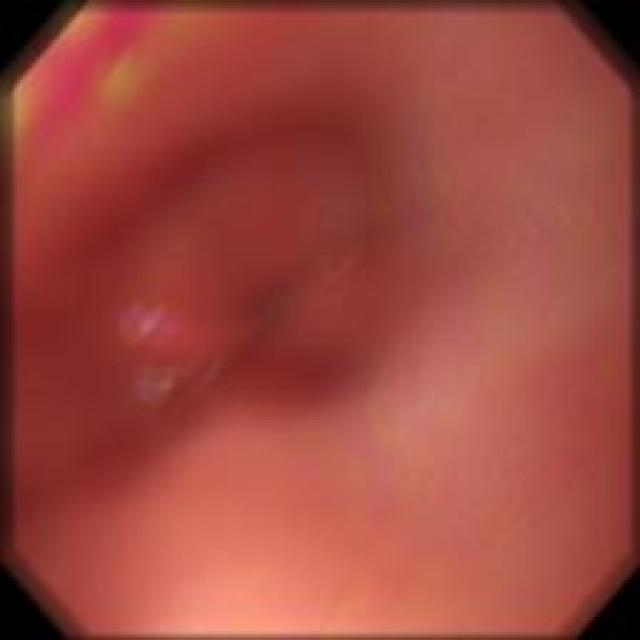blur: (1, 2, 638, 639), (64, 98, 484, 476)
color misalignment: (6, 6, 188, 169), (476, 196, 622, 279), (128, 355, 228, 420), (106, 292, 186, 350)
